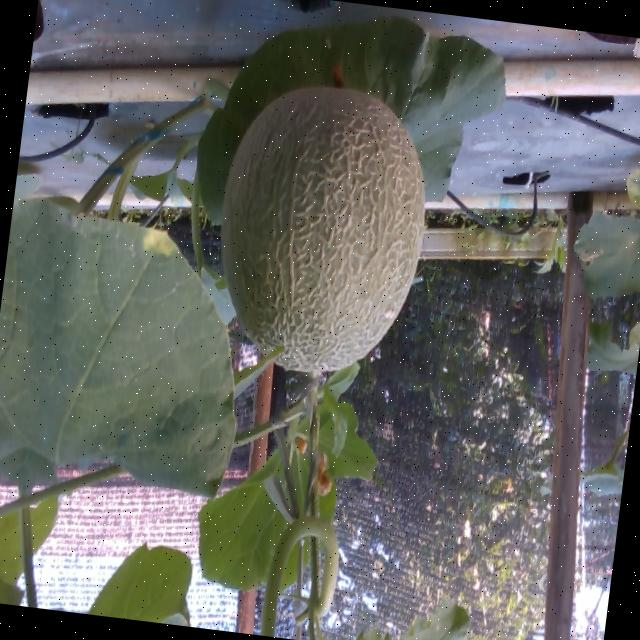melon: (219, 86, 423, 369)
